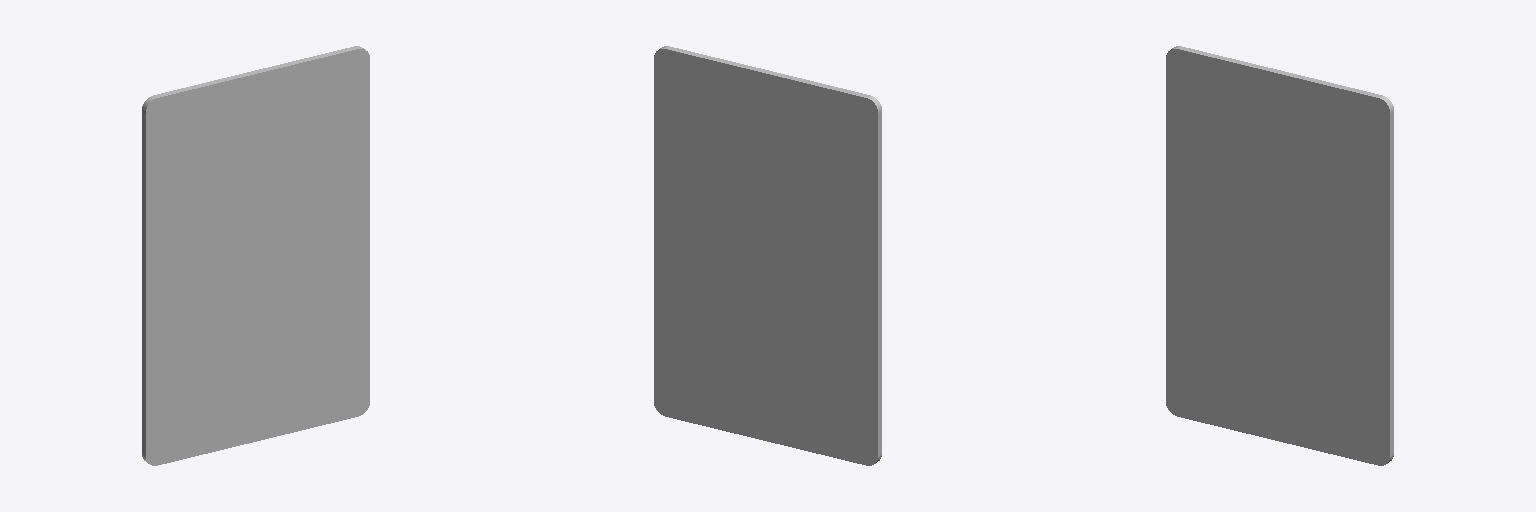
Rendered from boddy.obj.
3 views of the same model, side by side, from view 1: azimuth 30°, elevation 25°; view 2: azimuth 150°, elevation 25°; view 3: azimuth 330°, elevation 25° (orthographic).
Parts seen in each view (by area): view 1: Solid_27, Solid_1; view 2: Solid_1; view 3: Solid_27, Solid_1.
Boxes of the visible parts, x1,y1,x2,y2 form: Solid_27: [146, 49, 369, 465]; Solid_1: [142, 46, 363, 462]; Solid_1: [654, 46, 881, 465]; Solid_27: [1166, 49, 1389, 465]; Solid_1: [1172, 46, 1393, 462].
Size of the model in its own units: 18.88 by 29.55 by 0.5467.